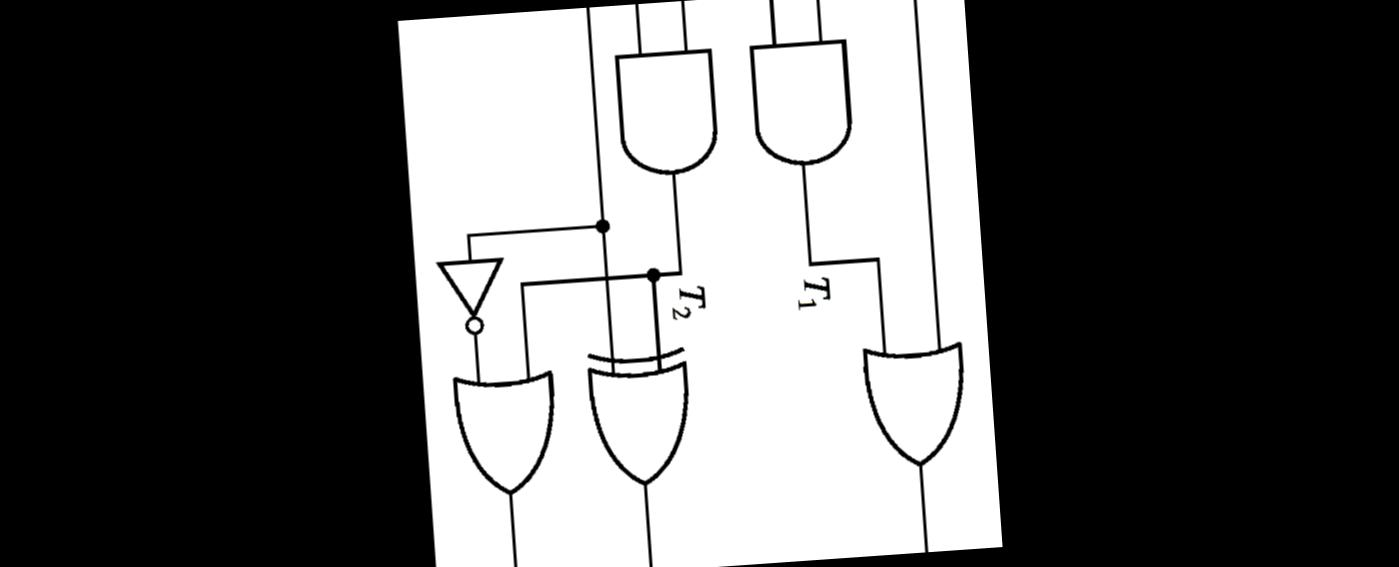and: (735, 12, 871, 184), (605, 28, 726, 192)
not: (424, 240, 516, 346)
or: (852, 324, 976, 478), (444, 360, 566, 508)
xor: (580, 337, 705, 500)
